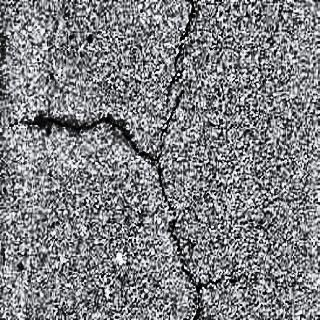crack: (156, 4, 204, 320), (17, 104, 154, 164), (193, 272, 236, 294)
